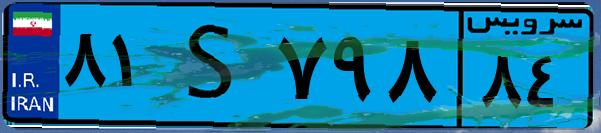1: (110, 28, 158, 98)
4: (525, 38, 570, 115)
7: (270, 28, 330, 110)
8: (385, 28, 445, 110), (57, 26, 110, 100), (475, 38, 525, 113)
9: (330, 28, 385, 110)
S: (158, 12, 270, 120)
